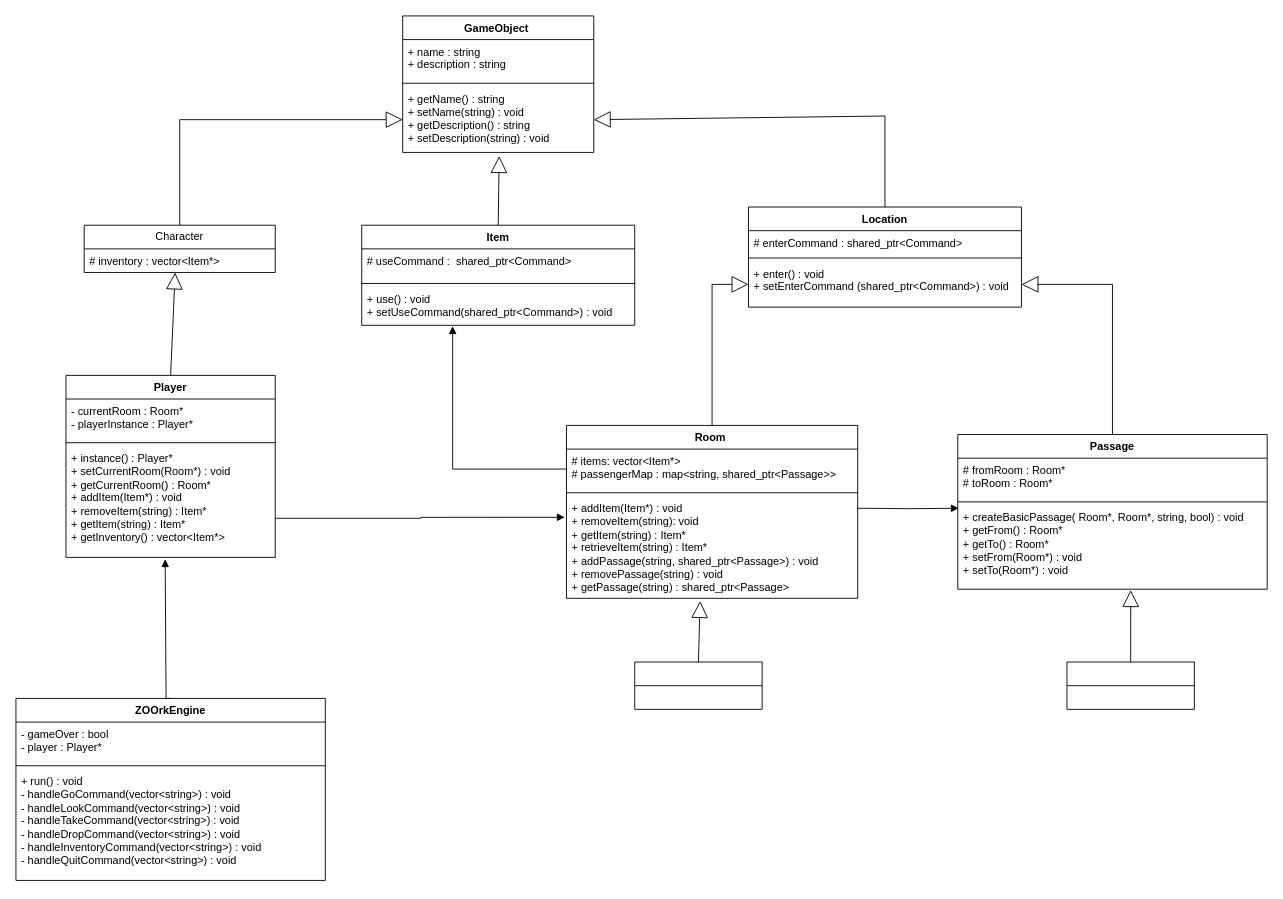
Image size: 1283x899. Some labels were removed from this diagram. The centre of each missing label's shape, as x and y in pixels:
NullPassage: point (1130, 685)
NullRoom: point (698, 685)
